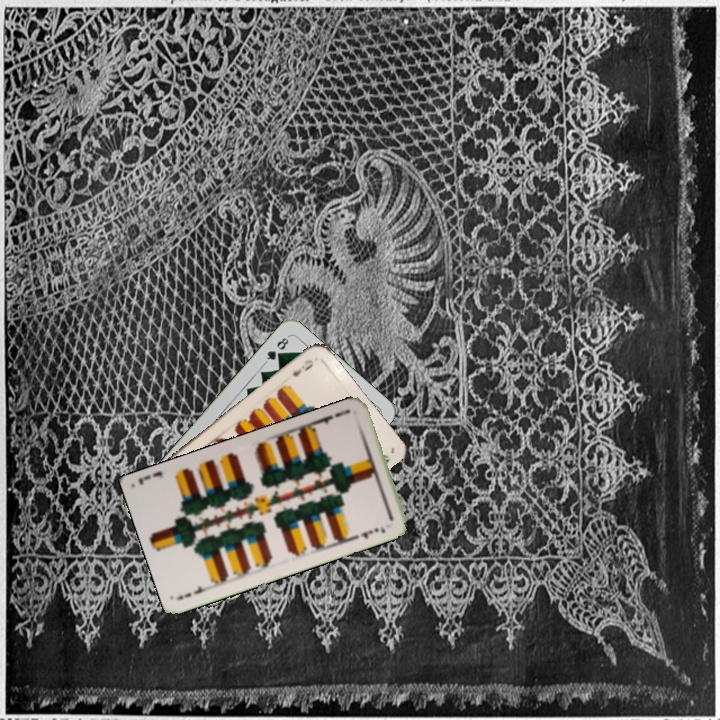E7: (314, 405, 352, 427), (175, 582, 215, 602)
E9: (288, 355, 316, 380)
G8: (261, 332, 292, 366)
